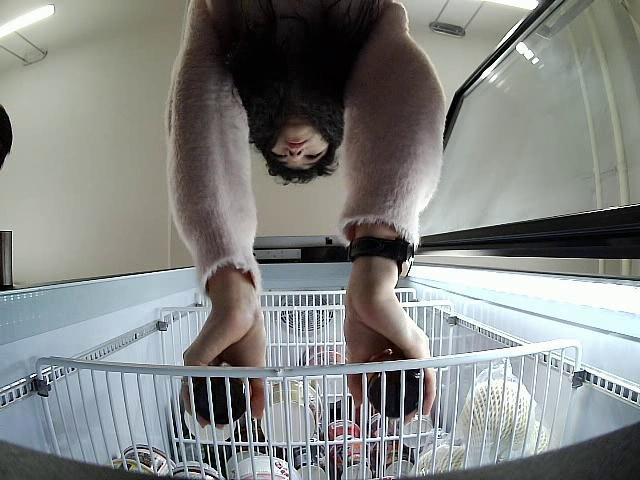17_vita500: (362, 350, 424, 418), (192, 376, 248, 422)
